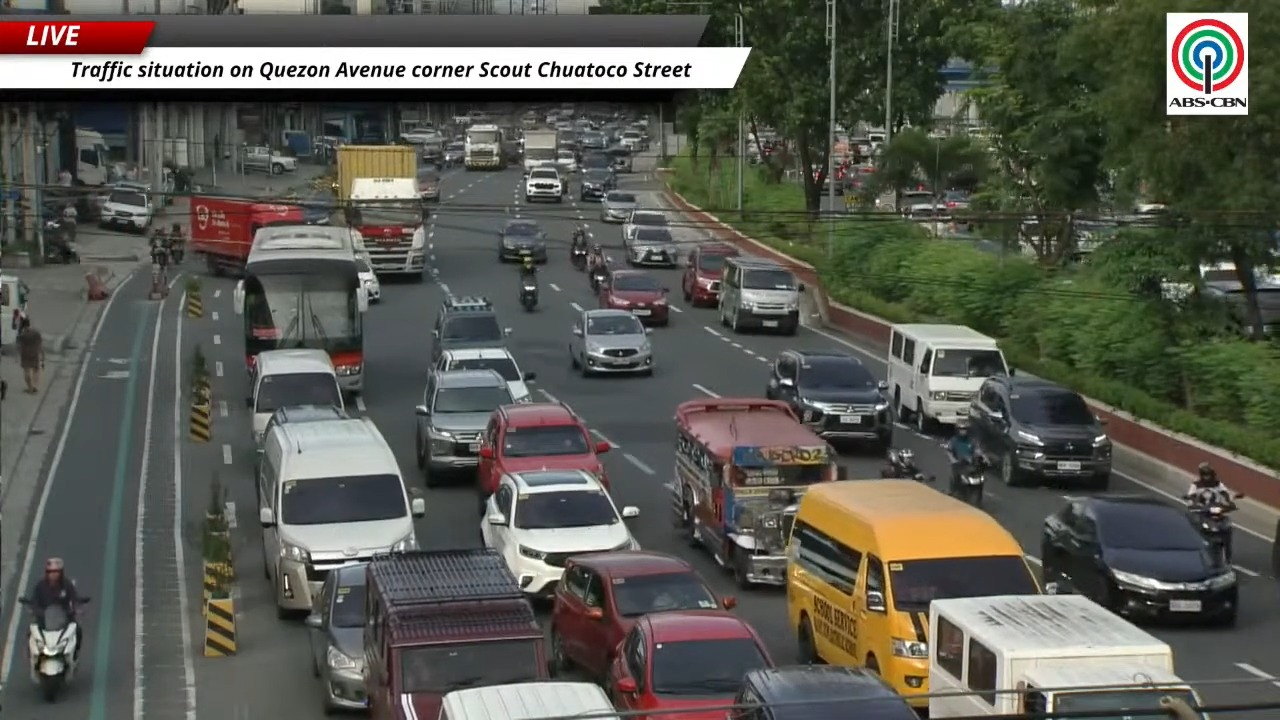bus: (235, 226, 367, 394)
car: (1040, 494, 1237, 624), (550, 550, 735, 678), (480, 470, 638, 597), (605, 609, 773, 716), (969, 375, 1111, 489), (477, 402, 609, 502), (765, 350, 891, 449), (415, 369, 514, 486), (731, 665, 919, 719), (306, 563, 367, 713), (569, 309, 653, 376), (434, 347, 535, 401), (430, 295, 510, 363), (599, 270, 669, 325), (682, 243, 739, 306), (262, 405, 349, 436), (99, 187, 154, 232), (498, 218, 547, 262), (627, 225, 678, 267), (622, 209, 669, 247), (524, 165, 565, 202), (241, 147, 297, 174), (297, 190, 336, 225), (600, 190, 637, 222), (535, 161, 569, 195), (356, 256, 380, 302), (580, 169, 615, 200), (894, 190, 936, 214), (416, 167, 440, 201), (580, 151, 612, 173), (607, 147, 632, 172), (620, 129, 647, 152), (941, 190, 970, 211), (556, 146, 577, 173), (443, 142, 464, 166), (580, 131, 606, 150)
motorcycle: (28, 604, 79, 701), (1188, 502, 1234, 564), (948, 453, 988, 508), (880, 447, 934, 482), (42, 220, 79, 263), (520, 278, 538, 311), (589, 261, 607, 293), (571, 246, 587, 271), (170, 241, 184, 264)
truck: (928, 595, 1199, 717), (669, 397, 841, 588), (364, 549, 548, 719), (188, 194, 304, 274), (343, 177, 426, 280), (335, 145, 418, 202), (63, 128, 113, 186), (464, 123, 505, 170), (523, 129, 558, 172)
